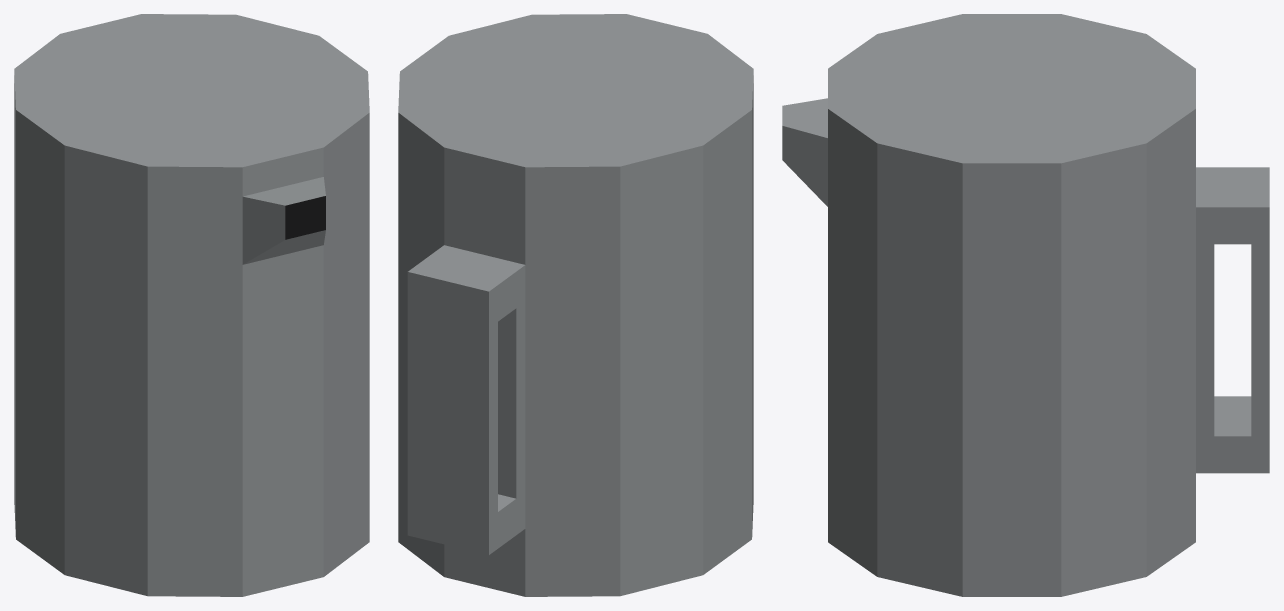
Rendered from kettle.gltf.
3 views of the same model, side by side, from view 1: azimuth 30°, elevation 25°; view 2: azimuth 150°, elevation 25°; view 3: azimuth 270°, elevation 25° (orthographic).
Parts seen in each view (by area): view 1: cylinder; view 2: cylinder; view 3: cylinder.
Part boxes in pixels (x1=…): cylinder: x1=14, y1=14, x2=369, y2=596; cylinder: x1=398, y1=14, x2=753, y2=596; cylinder: x1=782, y1=14, x2=1269, y2=596.
Size of the model in its own units: 0.5078 by 0.6875 by 0.7.
Materials: 1 (1 with a texture image).
